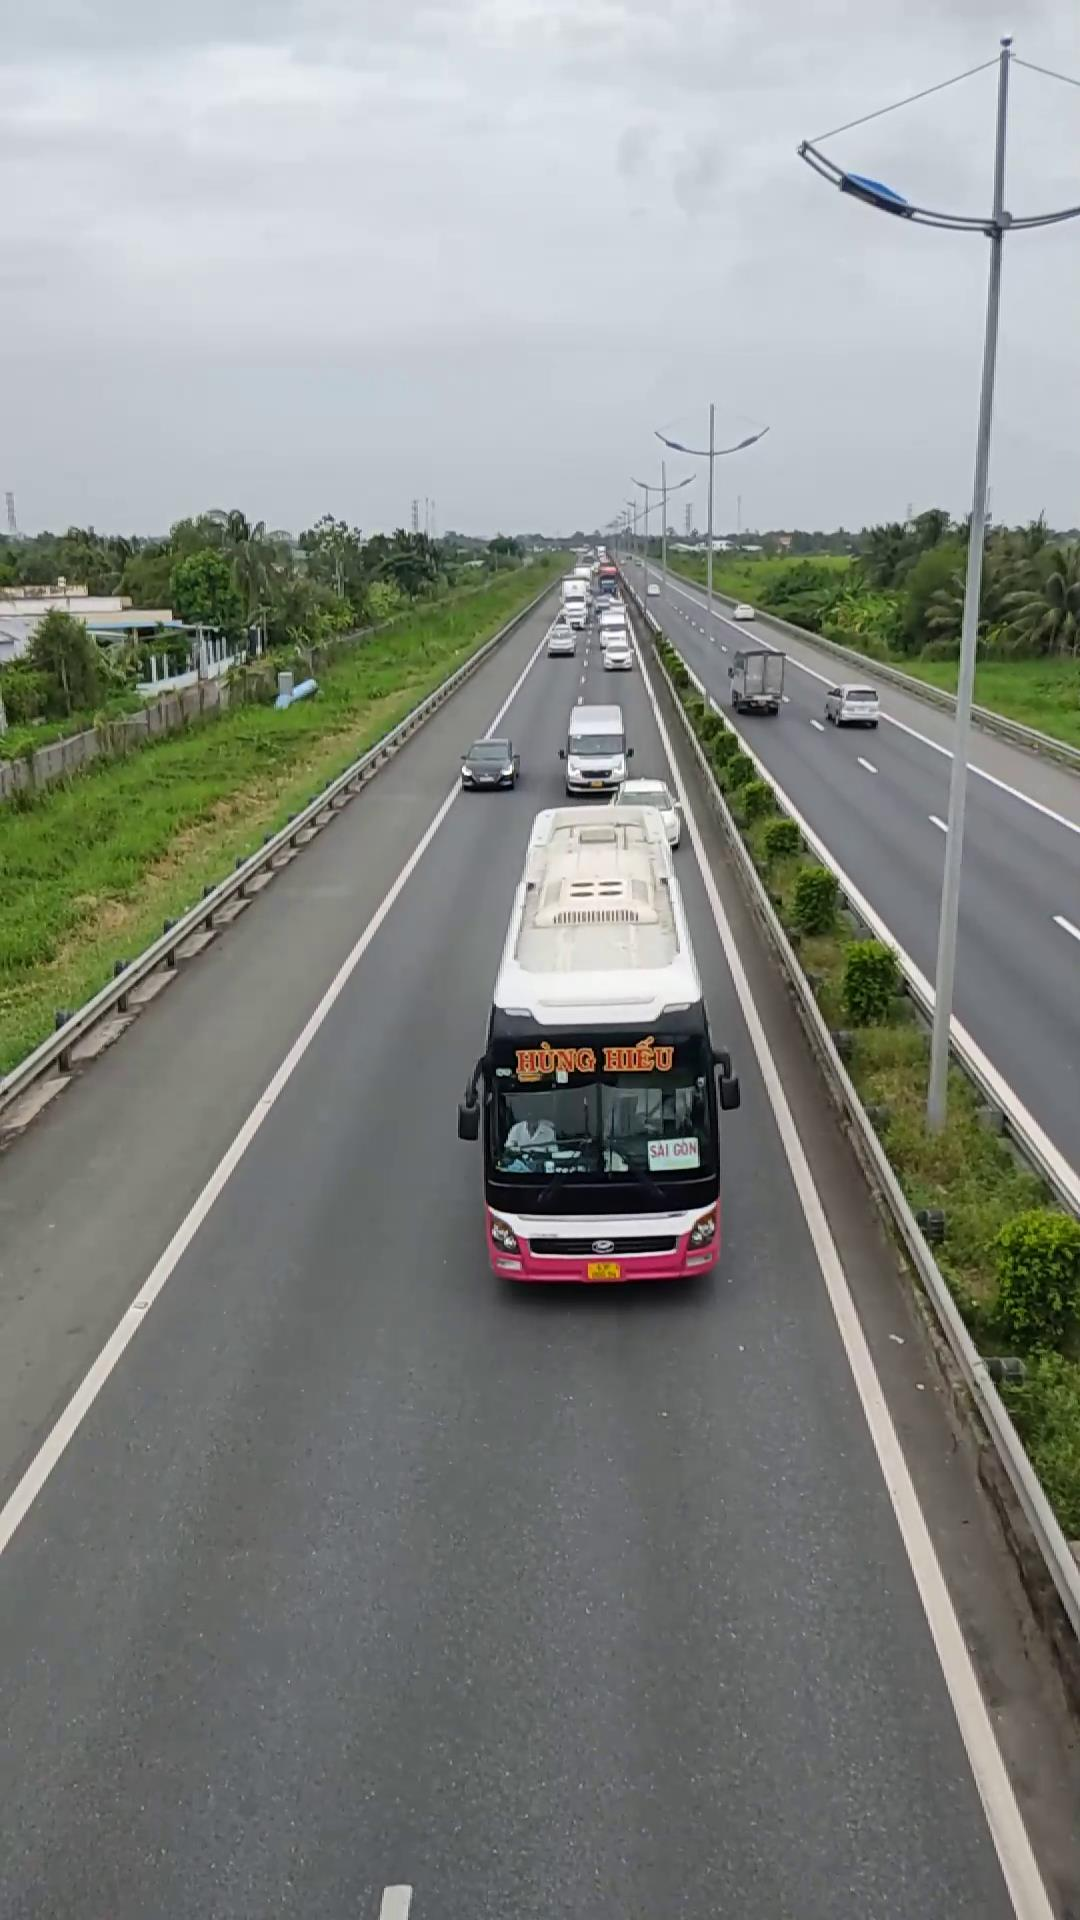bus: (460, 787, 733, 1288)
car: (559, 702, 632, 796)
truck: (727, 644, 786, 713)
